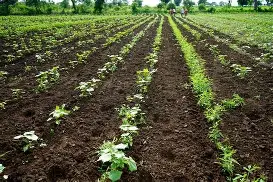crops: (0, 10, 270, 180), (1, 0, 270, 16), (94, 100, 144, 180), (0, 13, 142, 39), (186, 10, 272, 45), (72, 51, 128, 97), (213, 141, 266, 181), (1, 130, 44, 179), (216, 48, 258, 77), (203, 93, 243, 123), (145, 14, 166, 63), (46, 101, 79, 129), (34, 65, 59, 93), (189, 69, 209, 96), (32, 48, 59, 66), (134, 66, 153, 91), (0, 88, 22, 109), (98, 166, 123, 181), (214, 4, 253, 13), (254, 48, 272, 66), (125, 89, 145, 103), (207, 123, 223, 140), (117, 131, 134, 147), (74, 48, 91, 62), (119, 43, 132, 56), (103, 35, 116, 46), (3, 52, 16, 63), (108, 54, 123, 63), (51, 21, 68, 28), (67, 58, 78, 66)
